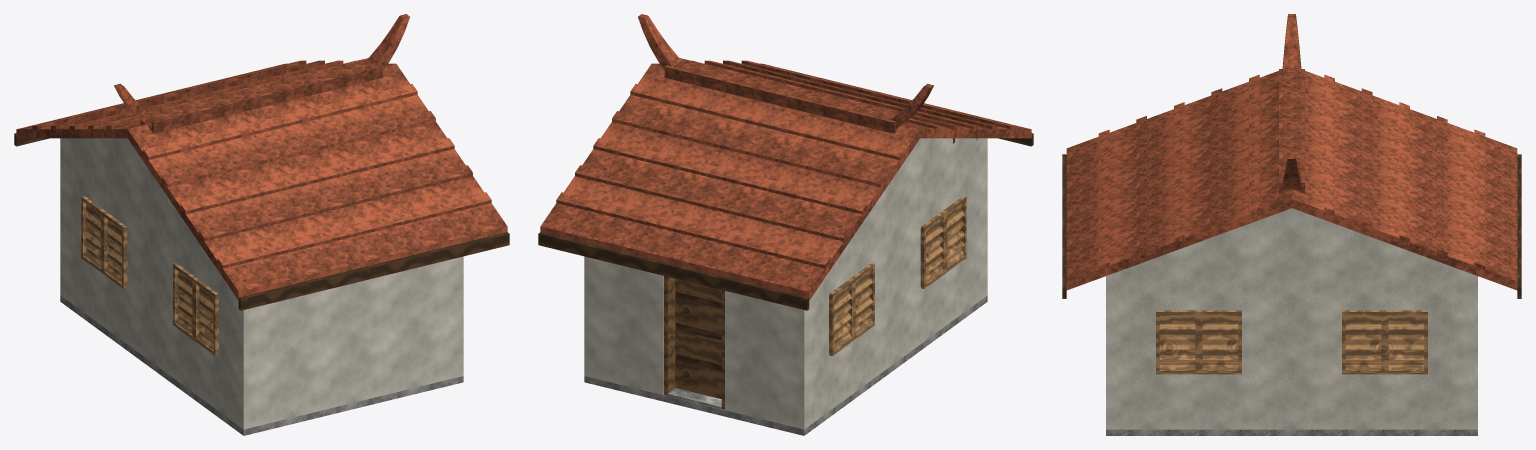
The model's file is cottage_c.fbx.
3 views of the same model, side by side, from view 1: azimuth 30°, elevation 25°; view 2: azimuth 150°, elevation 25°; view 3: azimuth 270°, elevation 25° (orthographic).
Parts seen in each view (by area): view 1: cottage_c; view 2: cottage_c; view 3: cottage_c.
Boxes of the visible parts, x1,y1,x2,y2 form: cottage_c: (14,14,509,435); cottage_c: (538,14,1033,435); cottage_c: (1062,14,1521,435).
Size of the model in its own units: 479 by 455 by 642.
